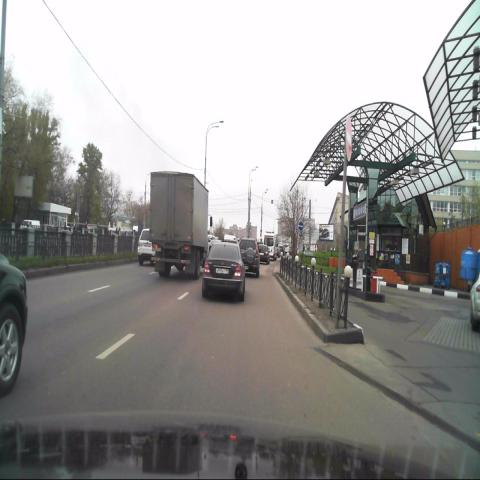3_1: (344, 114, 353, 163)
